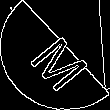M_NE: (19, 21, 91, 89)
